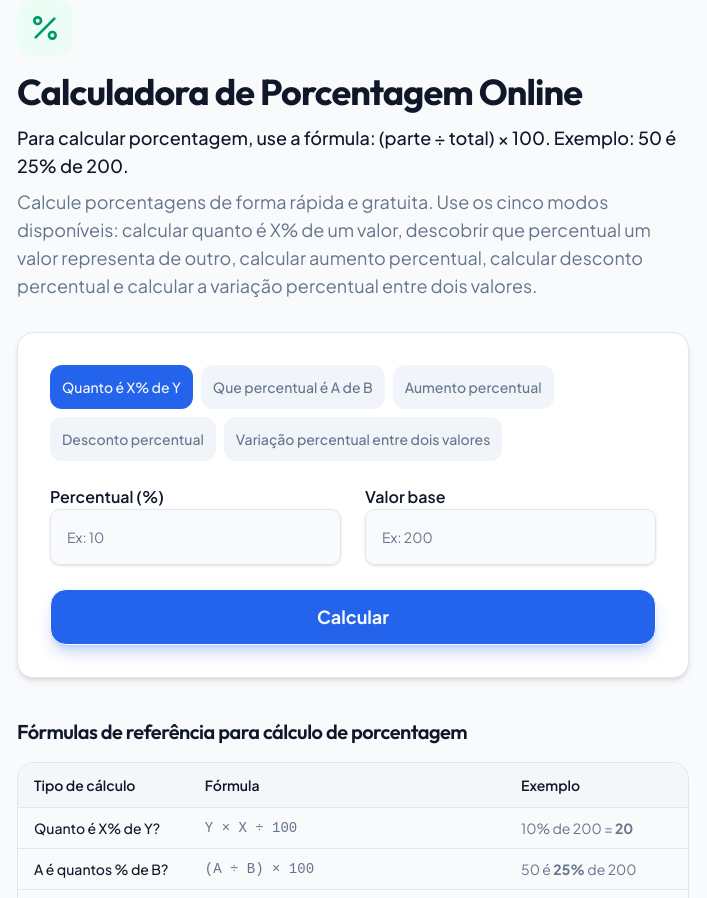
Test: 7.2 — Integração: componente Porcentagem › troca de modo limpa campos e oculta resultado
Type "10" into the field labelled "Percentual (%)" at (196, 537), box [50,509,341,565]
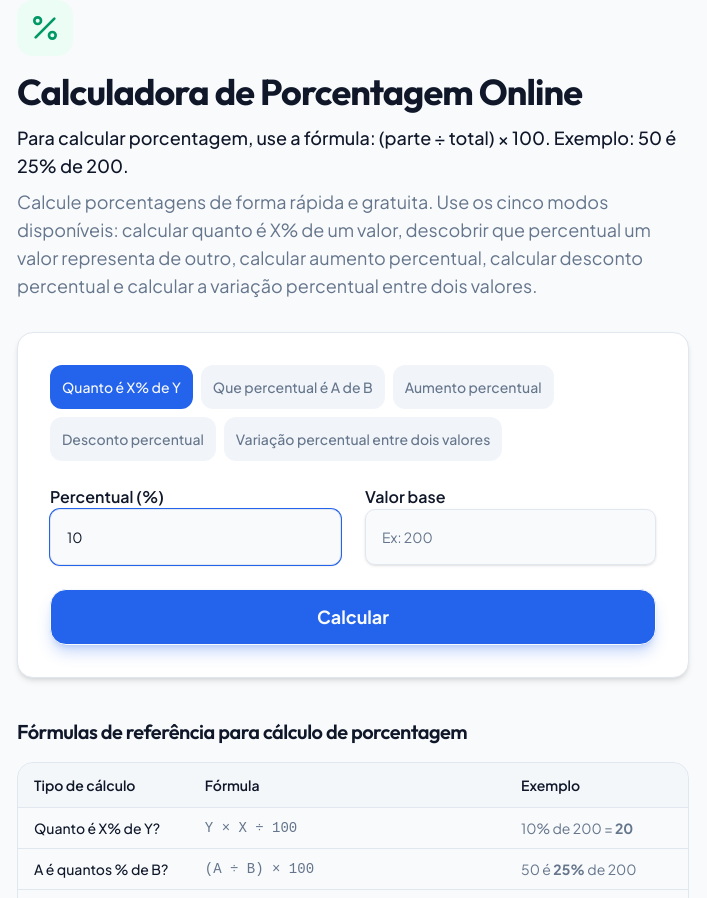
Type "200" into the field labelled "Valor base" at (510, 537), box [365,509,656,565]
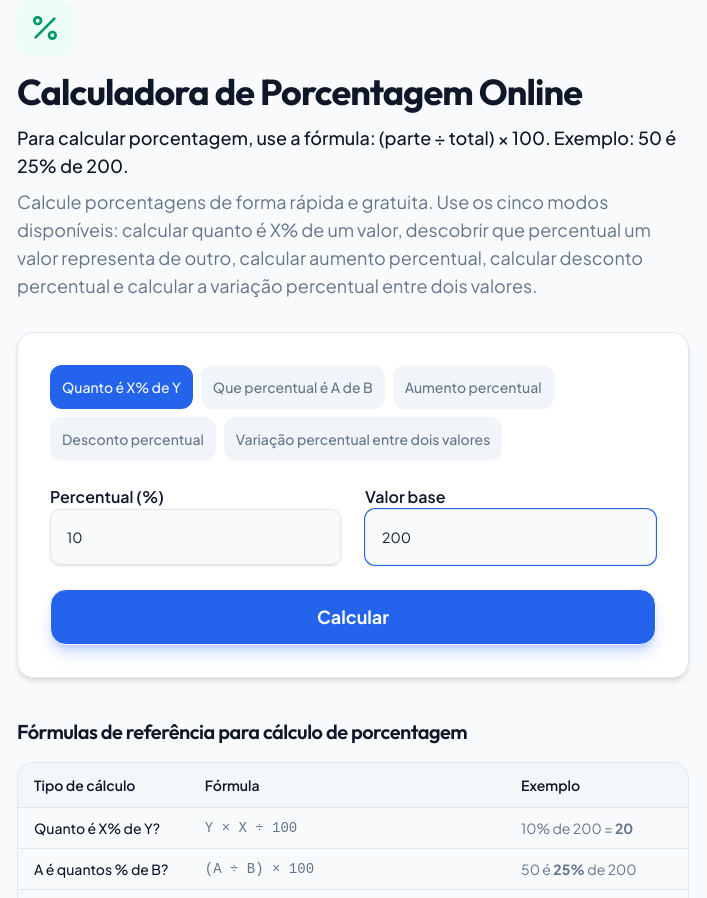
Click the button "Calcular" at (353, 617), box [50,589,656,645]
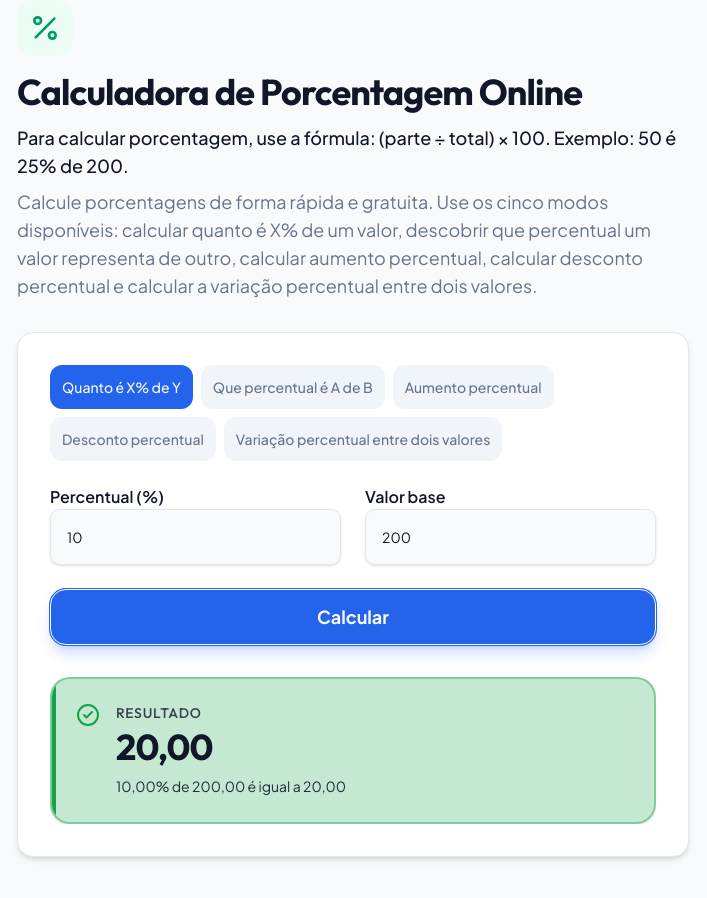
expect the text "20,00" is shown: met, box [116,724,213,769]
Click the button "Aumento percentual" at (473, 387), box [393,365,554,409]
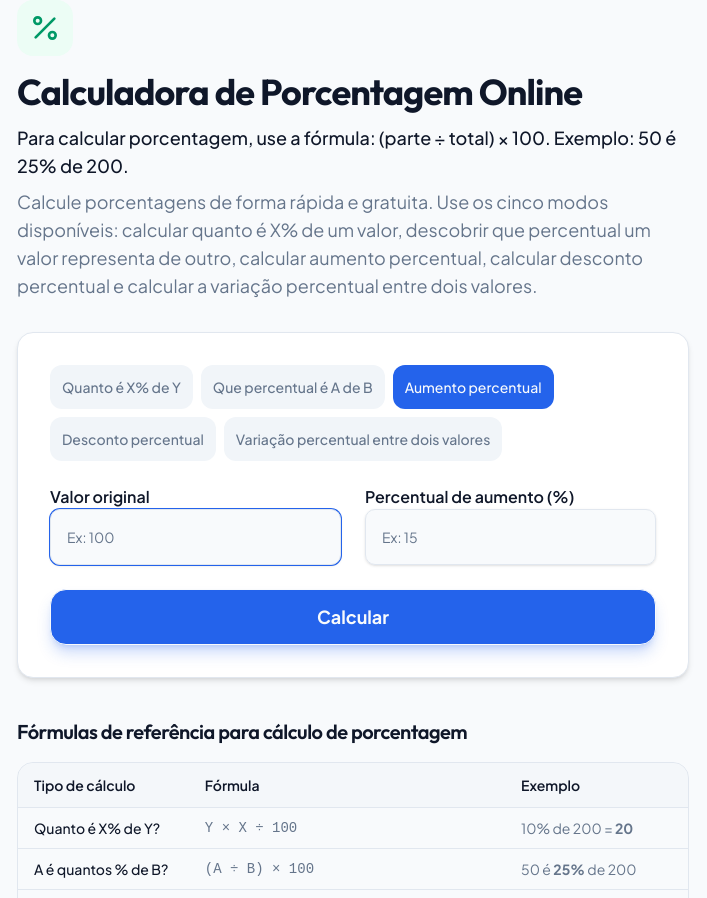
expect the text "10,00% de 200,00 é igual a 20,00" is gone: met
expect the field labelled "Valor original" is shown: met, box [50,509,341,565]
